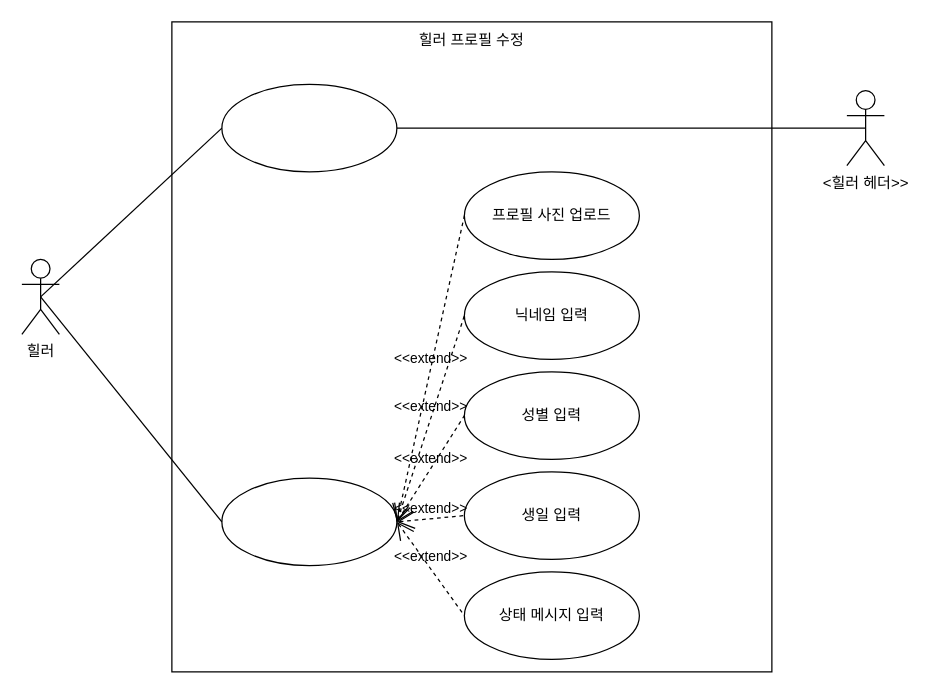
This 930x694 diagram has some shape labels left out. Here are the shapes that lost their labels. From the top down, the centre of each, then its label:
At point (309, 127): "힐러 헤더".
At point (309, 521): "프로필 수정".
